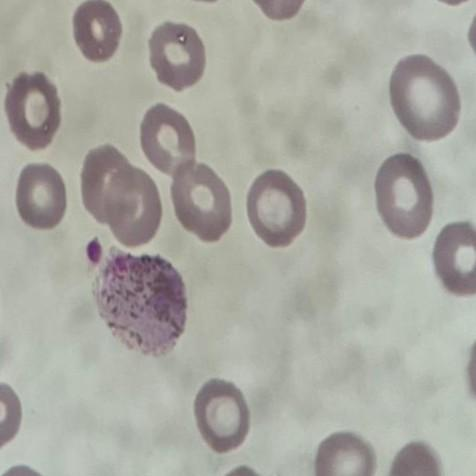Infected: (92, 242, 189, 359)
Uninfected: (390, 52, 463, 141), (171, 162, 230, 245), (376, 154, 432, 240), (81, 144, 138, 226), (192, 374, 247, 458), (139, 98, 196, 179), (249, 169, 307, 246), (105, 167, 160, 248), (5, 69, 60, 148), (151, 20, 208, 89), (13, 162, 66, 229), (433, 220, 476, 292), (75, 0, 122, 62)
